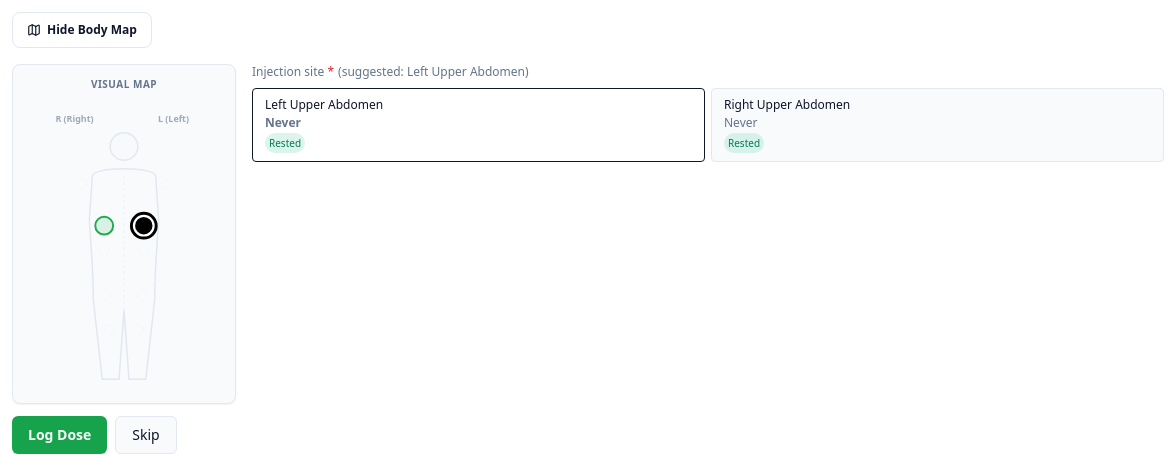
Test case: DoseLogActions Component UI/UX with JSDOM › Offline Intercept Fallback Checks › enqueues offline when a network TypeError occurs during online log attempt
Click the button "Log Dose": (60, 435) [12,416,107,454]
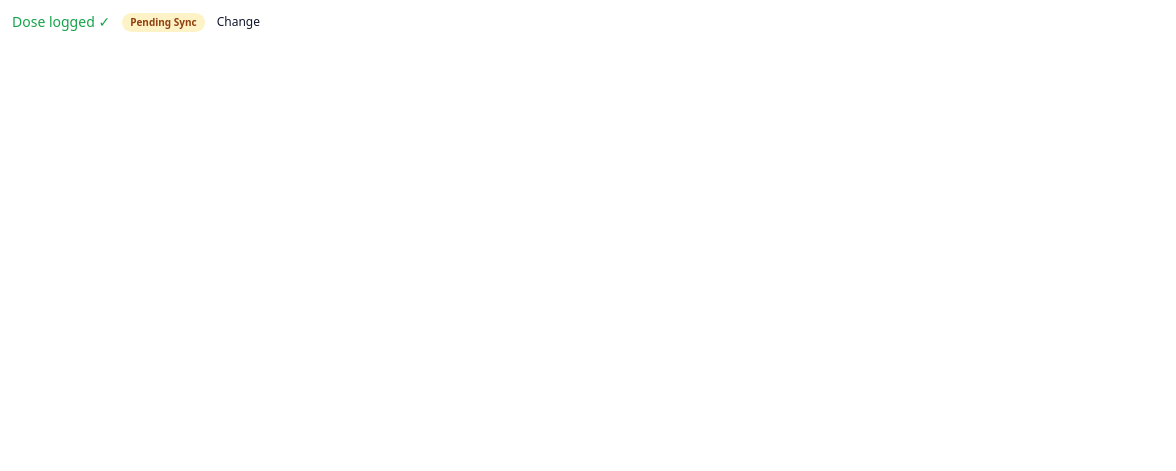
Now the text "Pending Sync" is shown, box [122,12,205,32]
